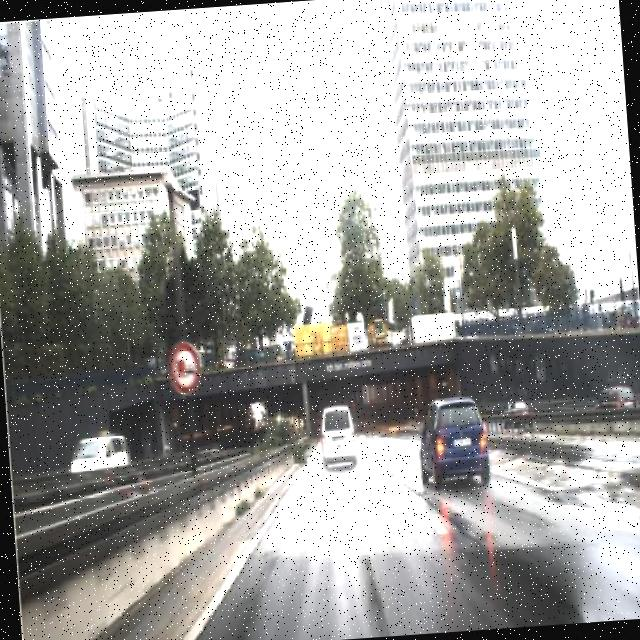Zakaz wyprzedzania: (165, 338, 204, 398)
